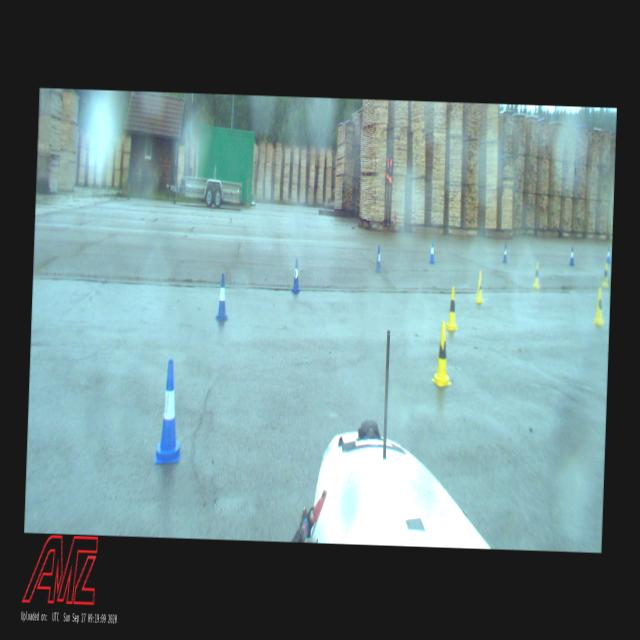blue_cone: (154, 358, 183, 464), (214, 274, 230, 321), (291, 258, 300, 292), (374, 245, 382, 272), (429, 241, 435, 262), (502, 240, 507, 262), (568, 246, 574, 264), (605, 246, 611, 264)
yellow_cone: (432, 322, 452, 387), (446, 286, 460, 330), (592, 288, 604, 324), (474, 271, 484, 302), (532, 262, 540, 288), (602, 262, 609, 286)
